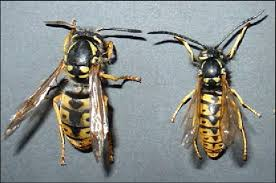chax: (10, 13, 144, 172), (150, 11, 270, 170)
